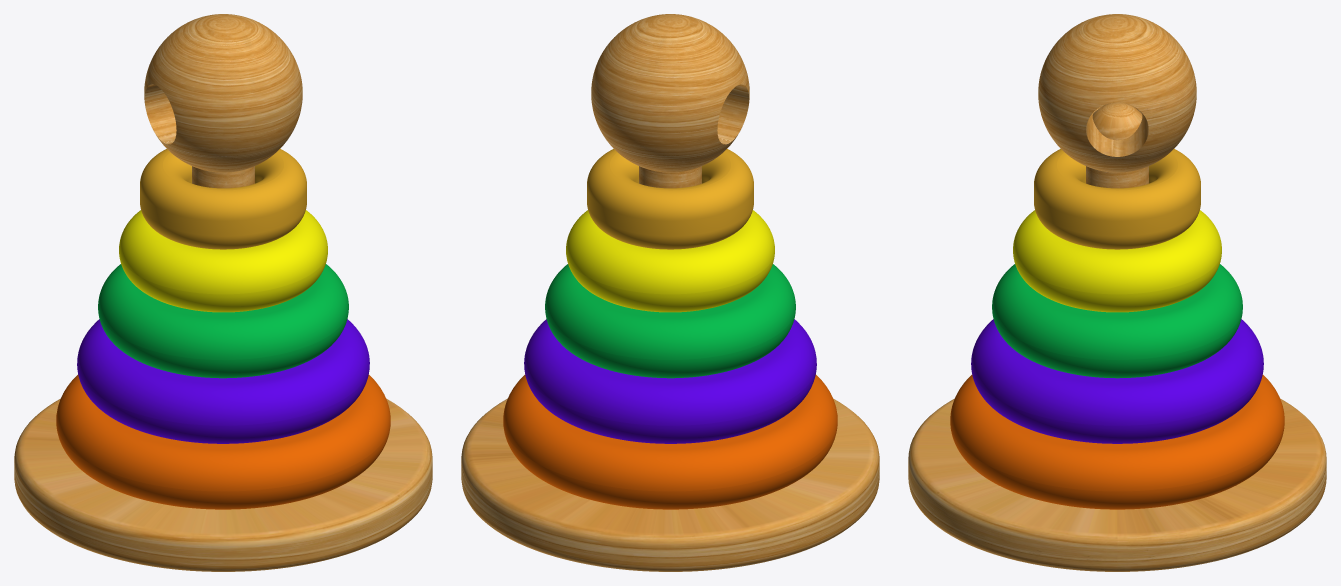
The model's file is Color_&_size_Toy.fbx.
3 views of the same model, side by side, from view 1: azimuth 30°, elevation 25°; view 2: azimuth 150°, elevation 25°; view 3: azimuth 270°, elevation 25° (orthographic).
Visible parts, largest first — view 1: Base, Part1, Part2, head, Part3, Part4, Part5, Suport; view 2: Base, Part1, Part2, head, Part3, Part4, Part5, Suport; view 3: Base, Part1, Part2, head, Part3, Part4, Part5, Suport.
Boxes of the visible parts, box(x1,y1,x2,y2) form: Base: box(14, 398, 432, 571); Part1: box(56, 374, 390, 509); Part2: box(77, 319, 369, 443); head: box(144, 14, 302, 172); Part3: box(98, 264, 348, 378); Part4: box(119, 210, 327, 312); Part5: box(140, 148, 306, 249); Suport: box(192, 166, 254, 188); Base: box(461, 398, 879, 571); Part1: box(503, 374, 837, 509); Part2: box(524, 319, 816, 443); head: box(591, 14, 749, 172); Part3: box(545, 264, 795, 378); Part4: box(566, 210, 774, 312); Part5: box(587, 148, 753, 249); Suport: box(639, 166, 701, 188); Base: box(908, 399, 1326, 571); Part1: box(950, 374, 1284, 509); Part2: box(971, 319, 1263, 443); head: box(1038, 14, 1196, 172); Part3: box(992, 264, 1242, 378); Part4: box(1013, 210, 1221, 312); Part5: box(1034, 148, 1200, 249); Suport: box(1086, 166, 1148, 188).
Bounding box in the file's own units: 200 × 246 × 200.
6 materials, 1 textured.
